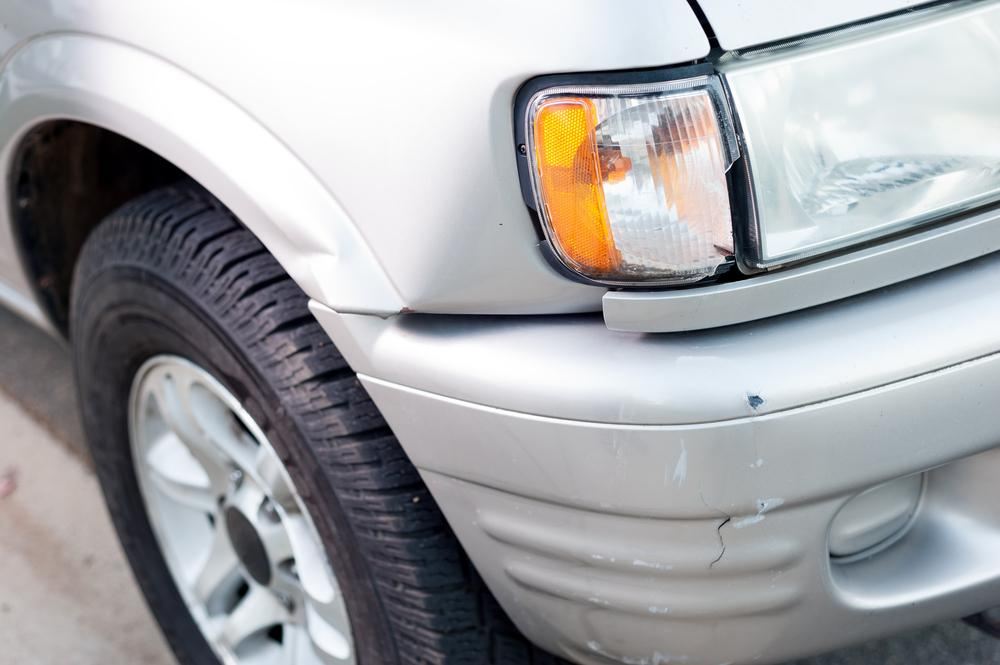crack: (697, 481, 732, 570)
dent: (258, 221, 333, 277)
lamp broken: (524, 79, 752, 282)
scratch: (574, 551, 693, 665), (736, 391, 785, 532), (665, 445, 692, 490)
